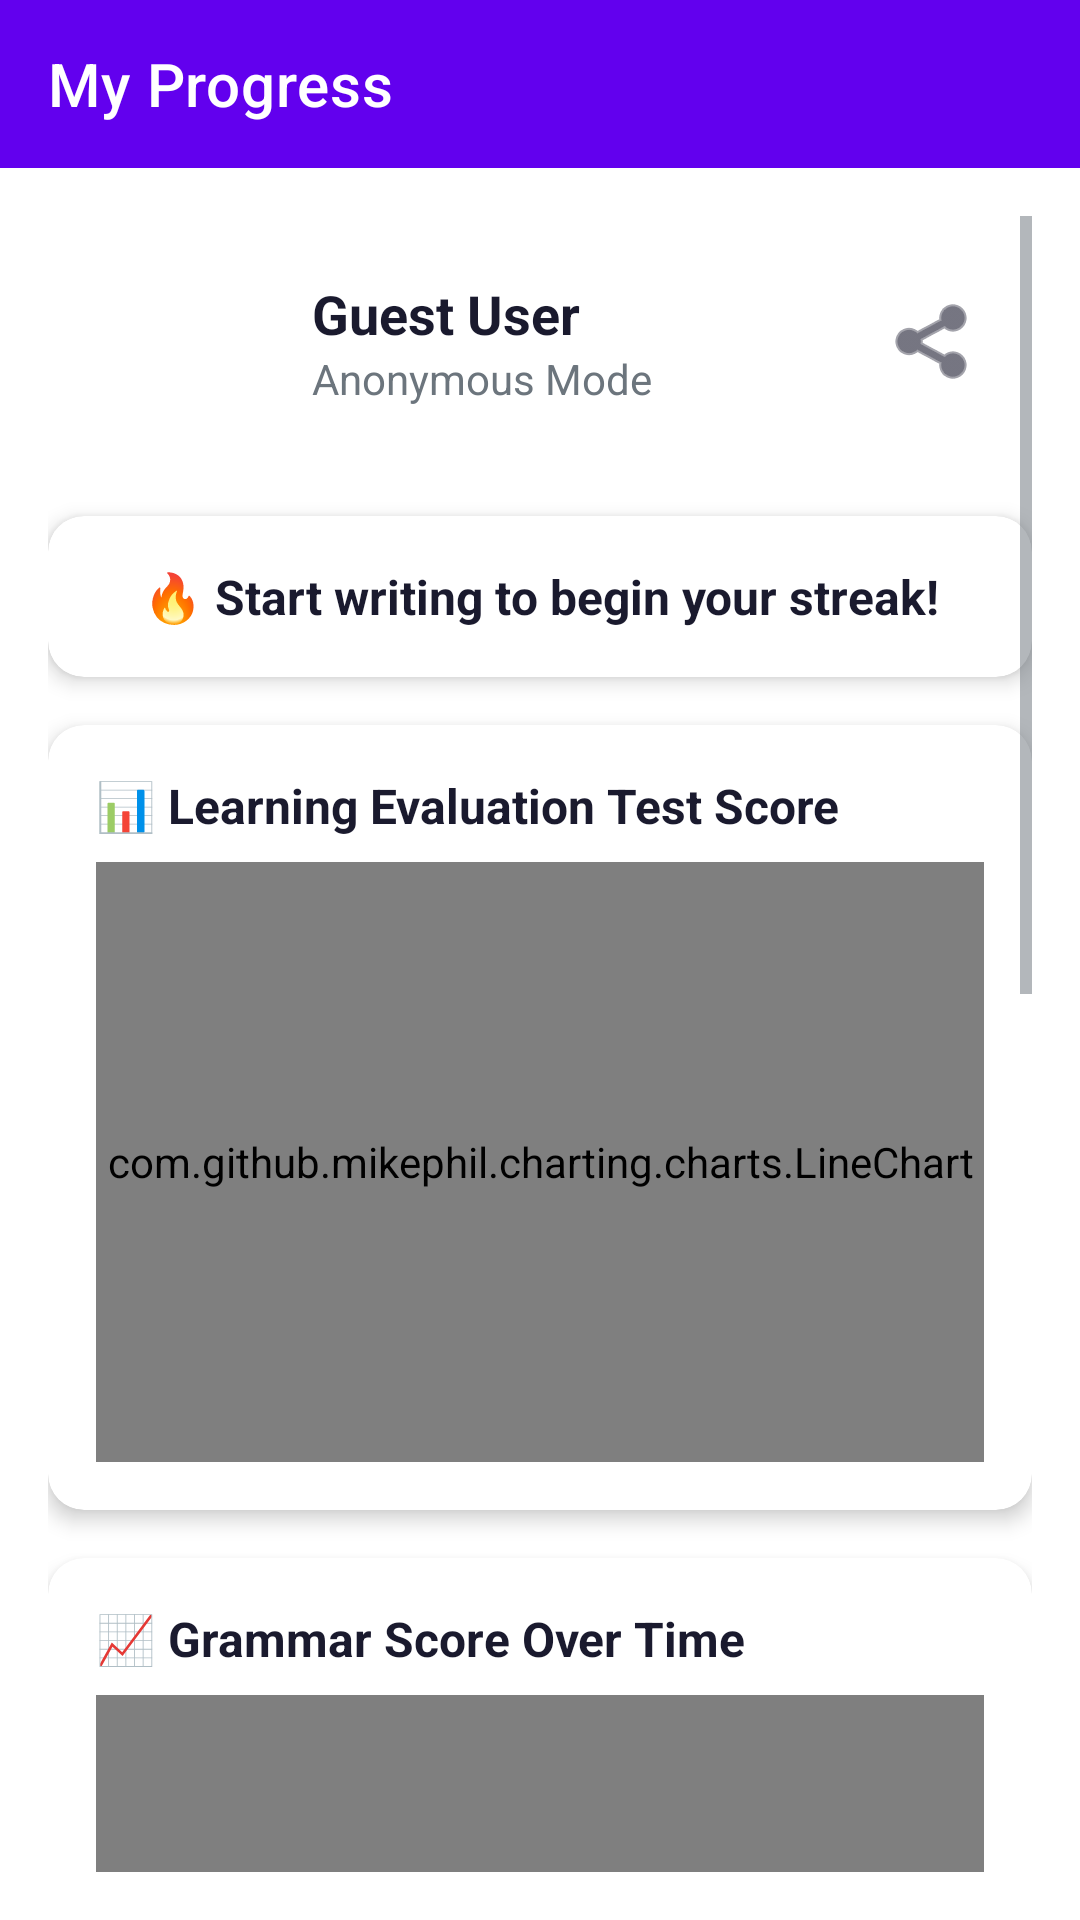

Named icons in this screenshot (1080 x 1920) and their bounding boxes, BBox(x1, y1, x2, y2):
Share: BBox(895, 304, 967, 379)
